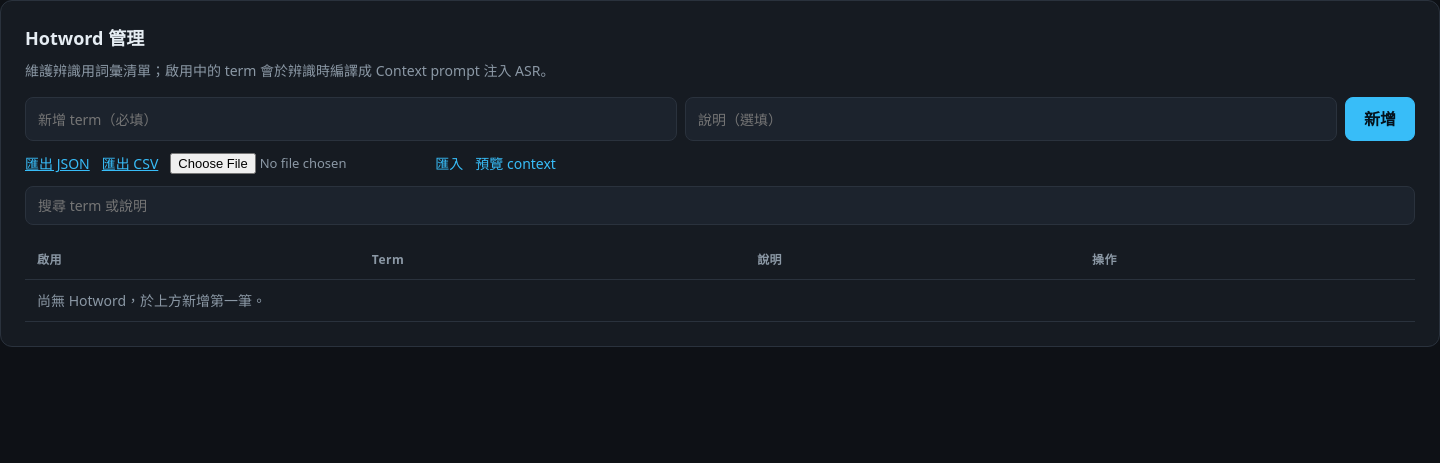
it: HotwordsPanel › 預覽 context 呼叫 previewContext 並顯示編譯字串
What coordinates should you click on to do the following:
click the button "預覽 context"
I would click on:
 (516, 164)
Its box is [475,153,556,174].
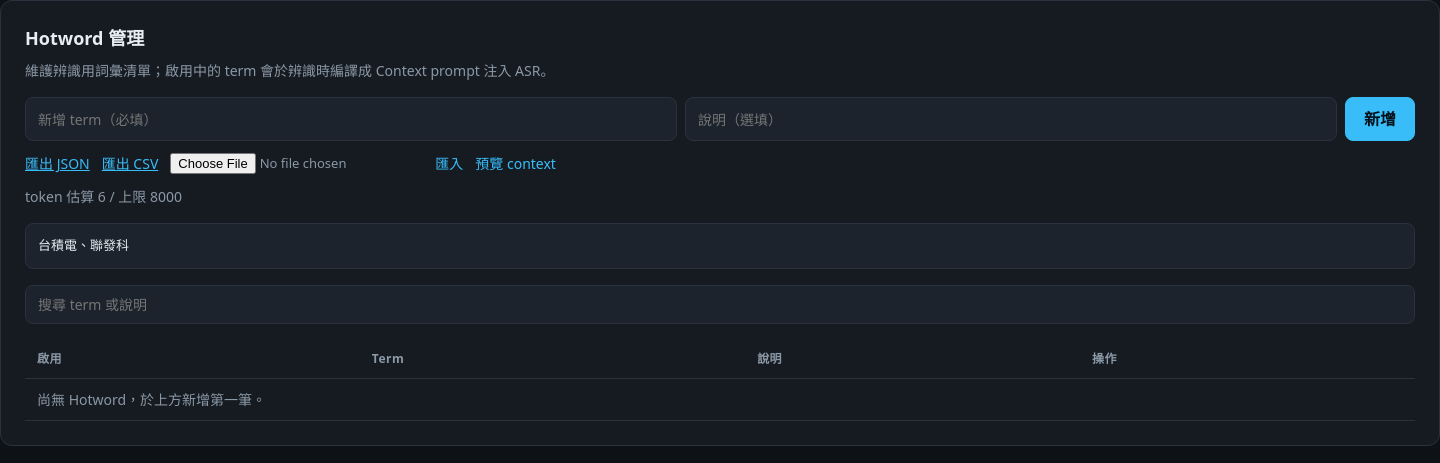
expect the text "台積電、聯發科" is shown: met, box [25,223,1415,268]
